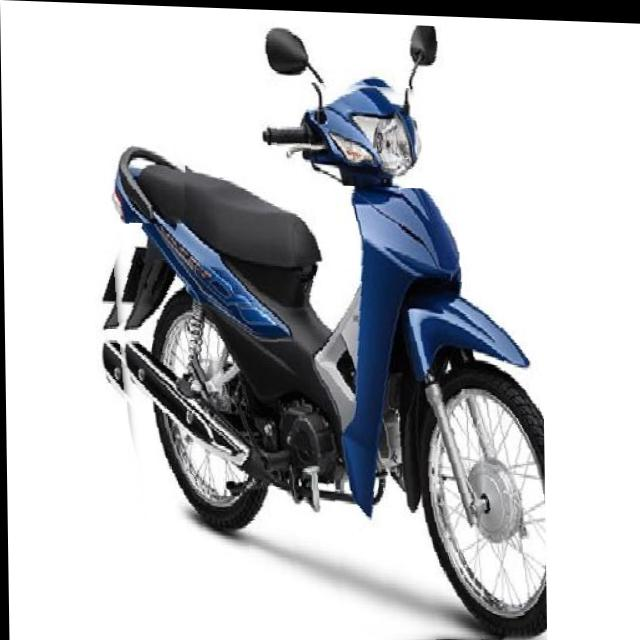All: (93, 13, 545, 640)
Head: (258, 76, 439, 186)
Tail: (108, 137, 187, 224)
